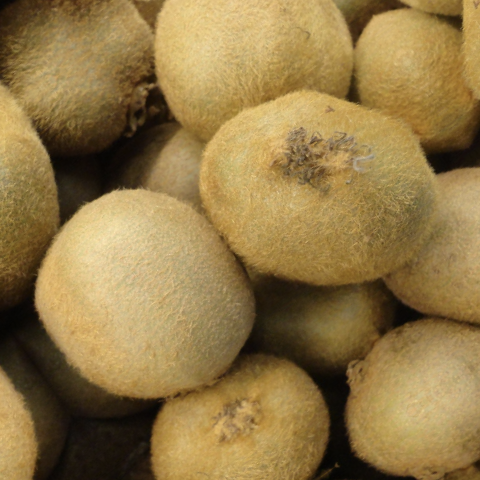kiwi: (150, 24, 480, 360), (0, 136, 319, 473), (109, 0, 389, 190), (105, 308, 364, 480)
